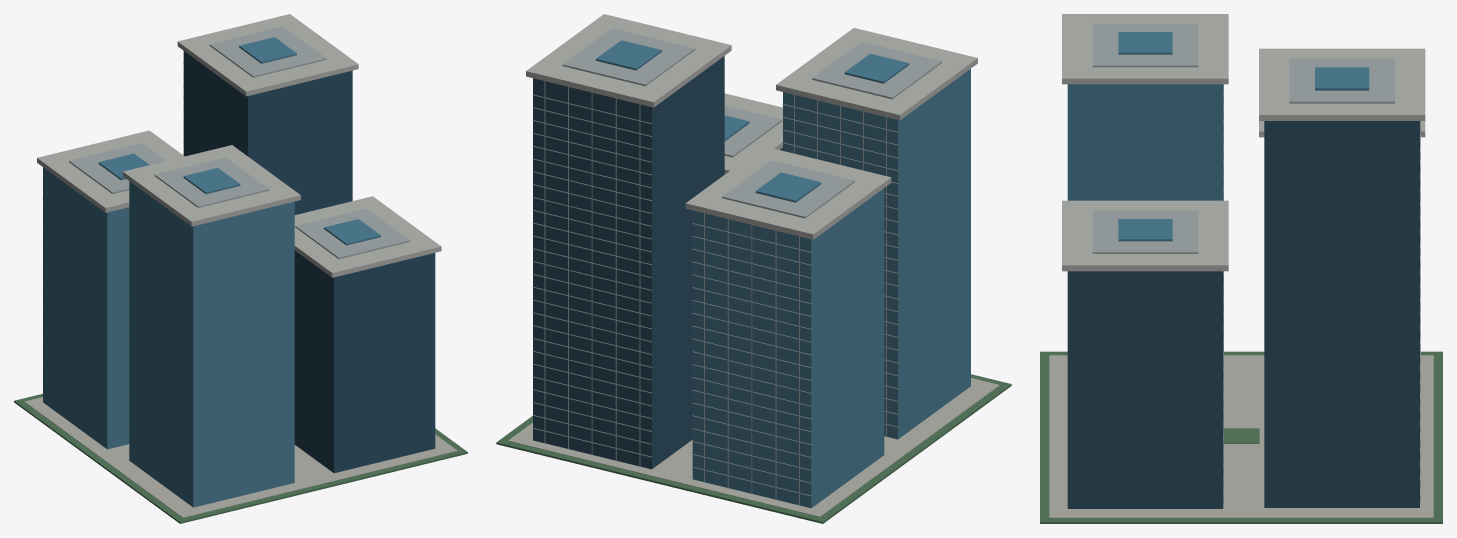
The model's file is bogota-modern-block.glb.
3 views of the same model, side by side, from view 1: azimuth 30°, elevation 25°; view 2: azimuth 150°, elevation 25°; view 3: azimuth 270°, elevation 25° (orthographic). The views are drawn at different scales.
Parts seen in each view (by area): view 1: bogota-modern-block; view 2: bogota-modern-block; view 3: bogota-modern-block.
Part boxes in pixels (x1,y1,x2,y2): bogota-modern-block: [14, 14, 467, 523]; bogota-modern-block: [496, 14, 1011, 523]; bogota-modern-block: [1040, 14, 1442, 523].
Size of the model in its own units: 88 by 96.83 by 88.
